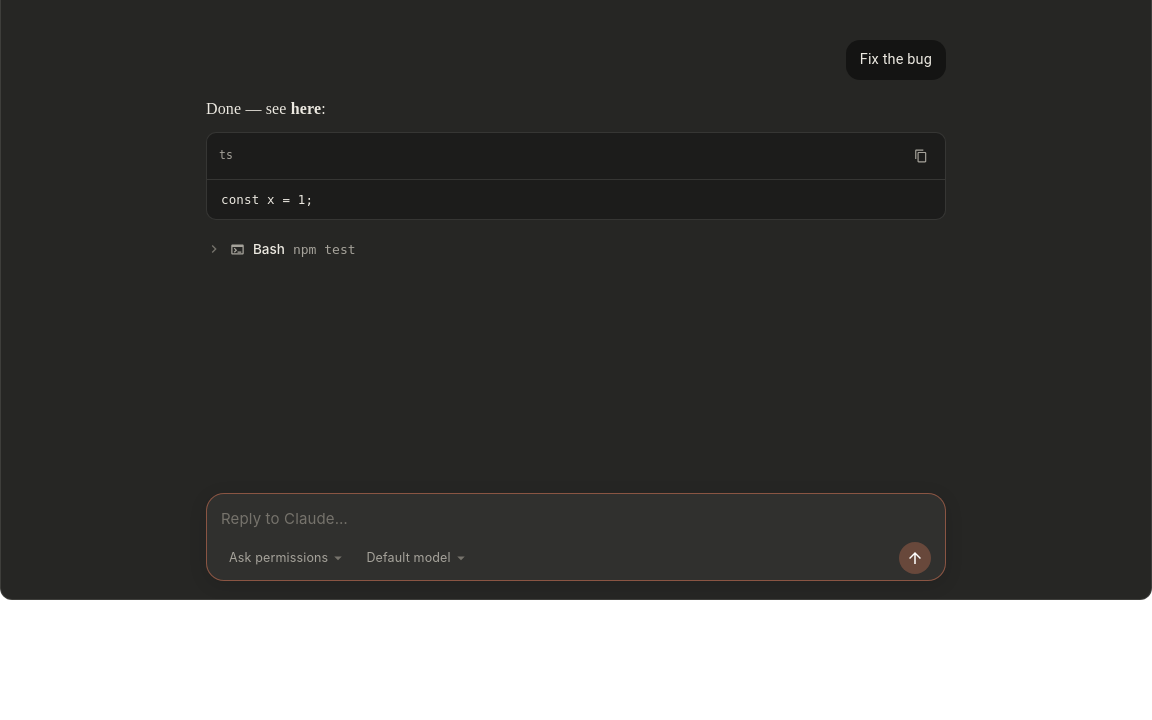
Scenario: ChatView › draws the user turn, the markdown reply and the tool row
Check: the text "Fix the bug" is shown, box [846, 40, 946, 80]
Check: the text "const x = 1;" is shown, box [221, 192, 313, 207]
# Expanding the row shows the command.
Click the text "Bash".
click(269, 249)  # box [253, 239, 285, 260]
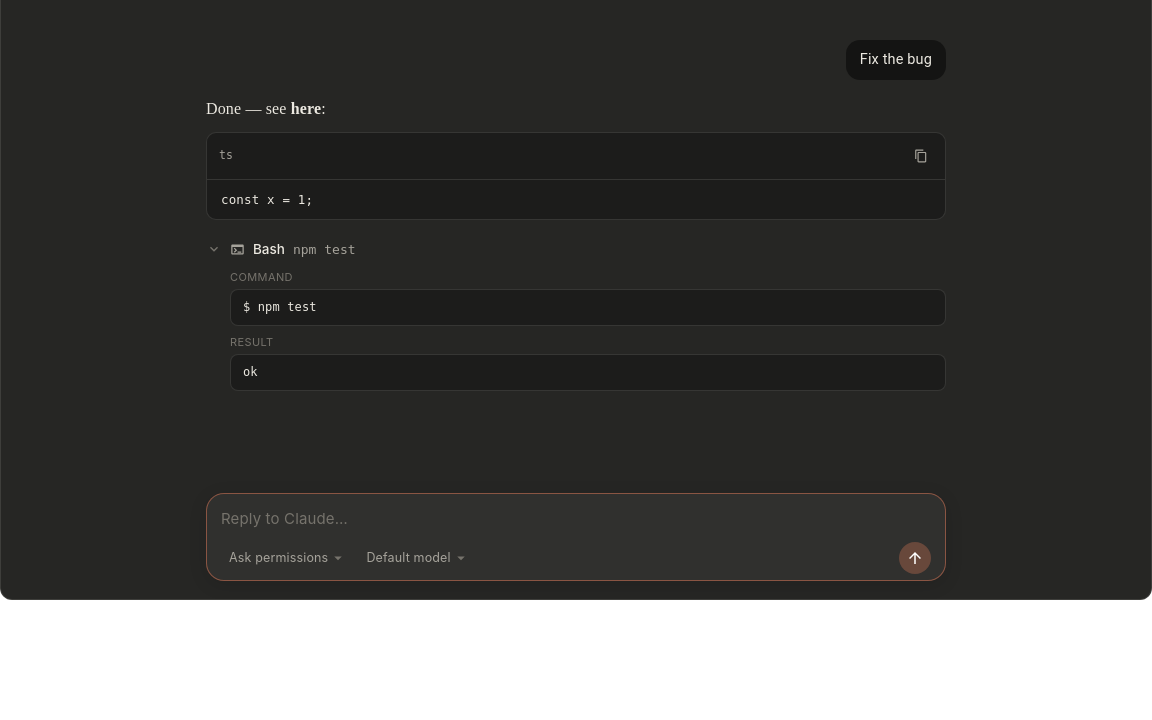
Check: the text "$ npm test" is shown, box [230, 289, 946, 326]
